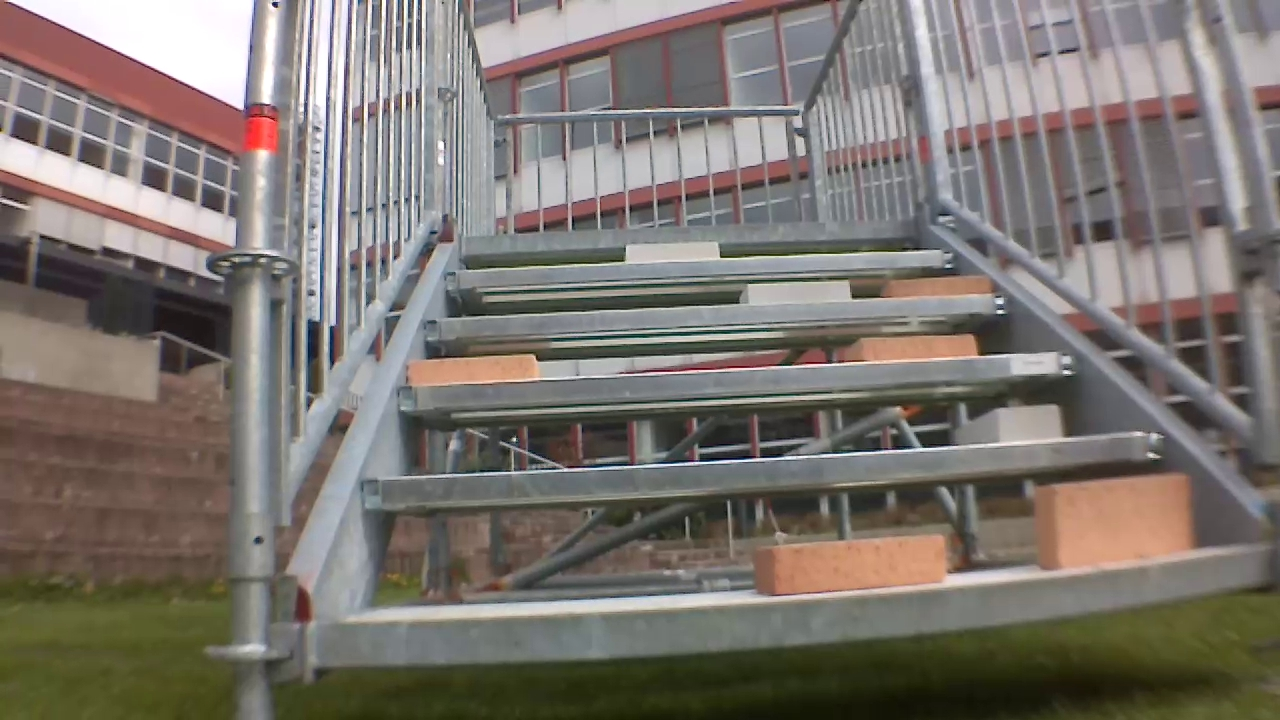brick: (1030, 475, 1201, 566), (754, 529, 950, 593), (846, 326, 982, 369), (969, 396, 1065, 444), (885, 267, 1013, 301), (727, 281, 855, 312), (408, 353, 533, 383), (612, 242, 722, 267)
edge: (332, 541, 1280, 681), (363, 430, 1176, 511), (395, 351, 1075, 414), (440, 243, 959, 294), (425, 292, 1018, 335), (463, 216, 934, 256)
stairs: (233, 0, 1280, 705)
steps: (300, 211, 1280, 680)
